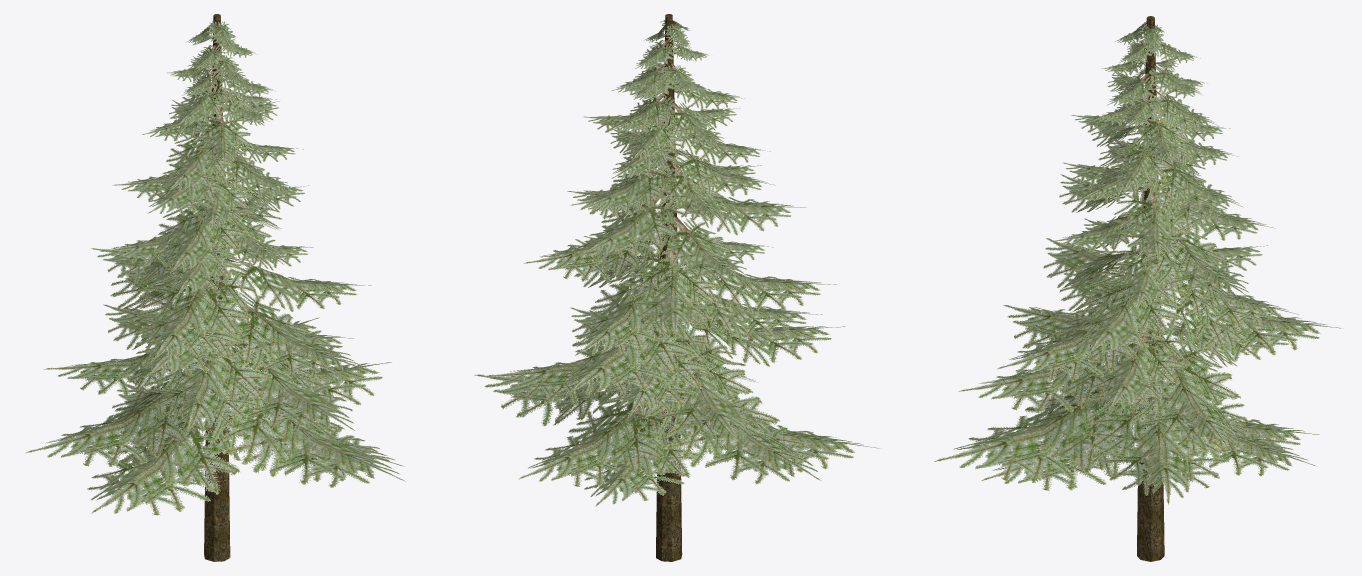
File: TreeC.fbx
3 views of the same model, side by side, from view 1: azimuth 30°, elevation 25°; view 2: azimuth 150°, elevation 25°; view 3: azimuth 270°, elevation 25° (orthographic).
Visible parts, largest first — view 1: Leaves.001, Trunk; view 2: Leaves.001, Trunk; view 3: Leaves.001, Trunk.
Boxes of the visible parts, <box> form: Leaves.001: <box>26,21,405,515</box>; Trunk: <box>204,14,230,561</box>; Leaves.001: <box>474,20,879,506</box>; Trunk: <box>656,14,682,561</box>; Leaves.001: <box>934,21,1343,504</box>; Trunk: <box>1137,16,1164,561</box>.
Bounding box in the file's own units: 3106 × 4276 × 3121.
